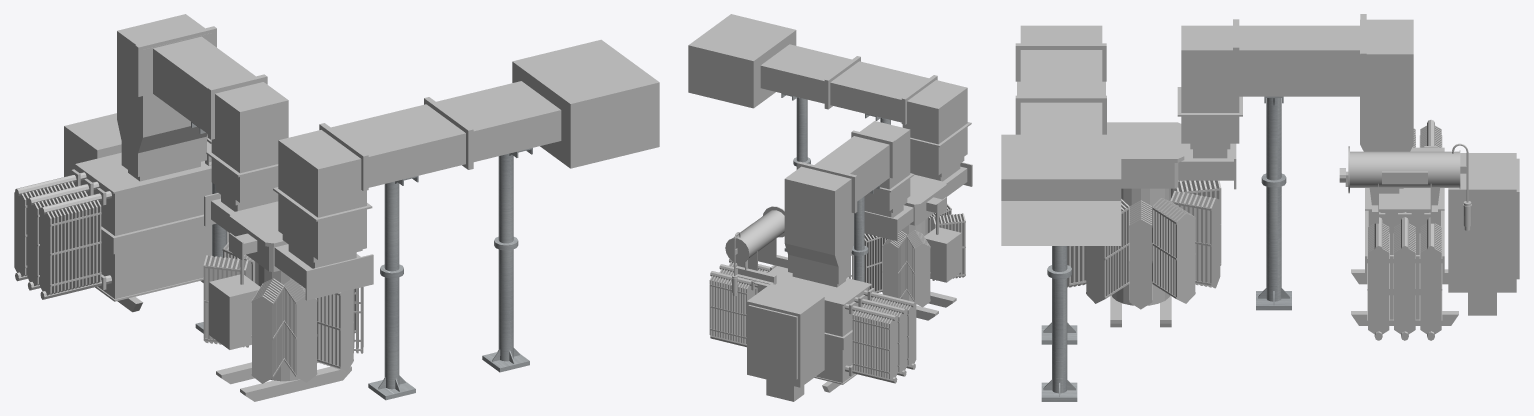
Rendered from Machine003.FBX.
The picture shows the model from 3 angles, left to right: view 1: azimuth 30°, elevation 25°; view 2: azimuth 150°, elevation 25°; view 3: azimuth 270°, elevation 25°; orthographic projection. The views are drawn at different scales.
Parts seen in each view (by area): view 1: Machine003; view 2: Machine003; view 3: Machine003.
Boxes of the visible parts, x1,y1,x2,y2 form: Machine003: [14, 14, 659, 401]; Machine003: [688, 14, 972, 401]; Machine003: [1001, 14, 1519, 401].
Bounding box in the file's own units: 570 × 344 × 574.
